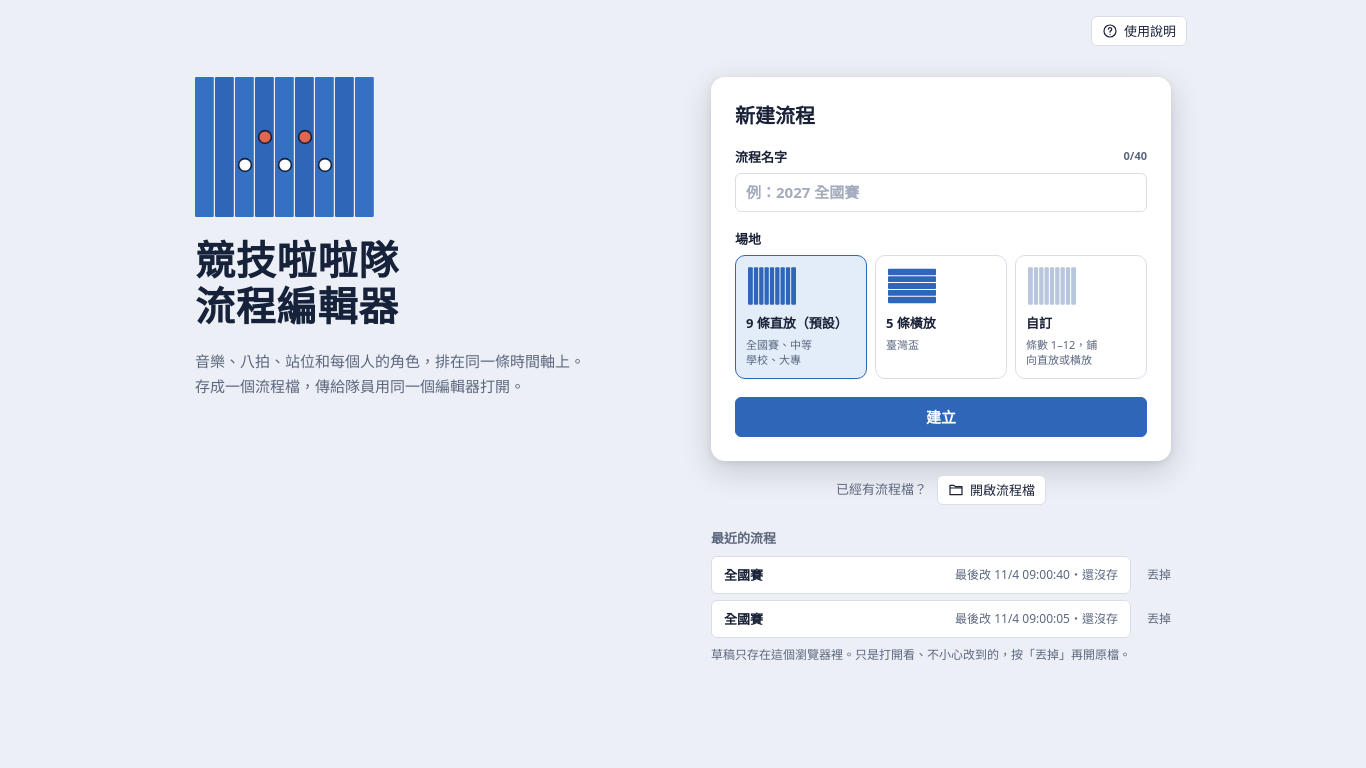
Test: 首頁：最近的流程 › 同名、同一分鐘改的兩支：時間寫到秒分得出來，「丟掉」的確認框也寫是哪一支，不只寫名字（N40）
This screenshot has width=1366, height=768.
What coordinates should you click on to do the following:
click the button with aria-label "丟掉「全國賽」（最後改 11/4 09:00:05）"
I would click on:
 (1159, 619)
Its box is [1147,609,1171,629].
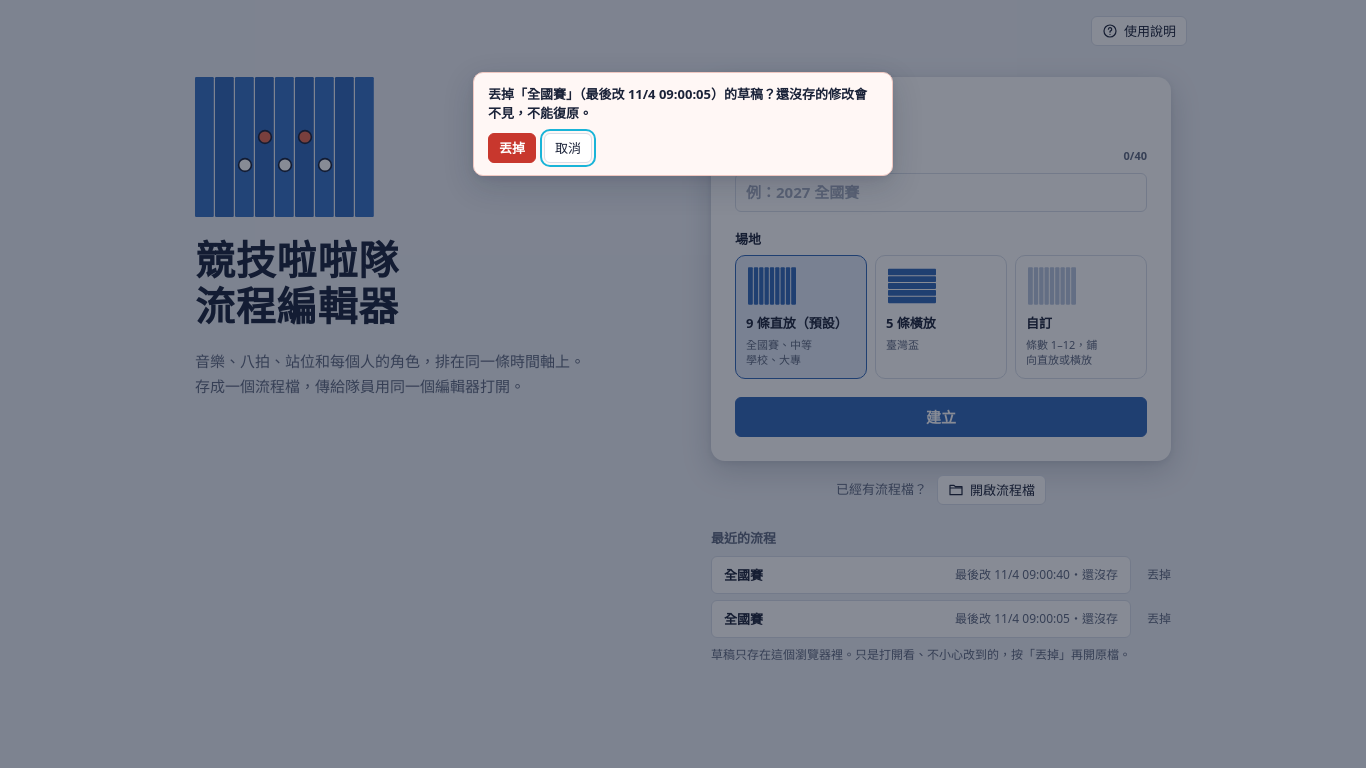
Result: the dialog shows "丟掉「全國賽」（最後改 11/4 09:00:05）的草稿？" at [488,85,867,122]
